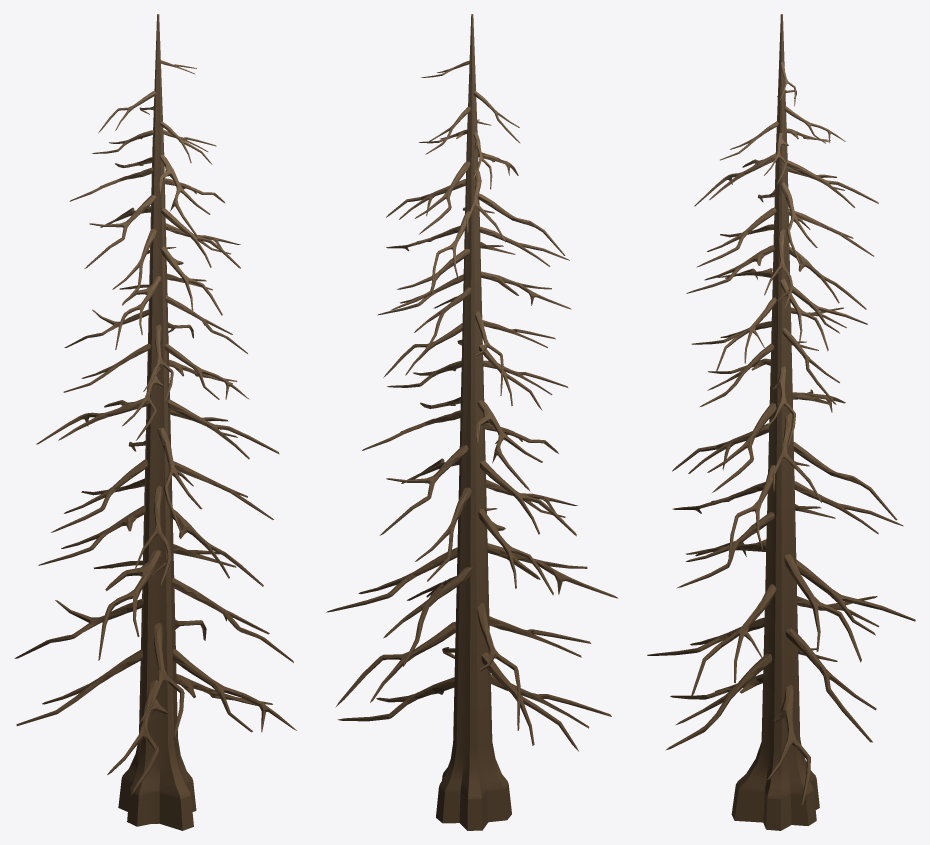
File: Tree_07.fbx
The picture shows the model from 3 angles, left to right: view 1: azimuth 30°, elevation 25°; view 2: azimuth 150°, elevation 25°; view 3: azimuth 270°, elevation 25°; orthographic projection.
Visible parts, largest first — view 1: Tree_07_LOD0; view 2: Tree_07_LOD0; view 3: Tree_07_LOD0.
Part boxes in pixels (<box>): Tree_07_LOD0: <box>14,14,296,830</box>; Tree_07_LOD0: <box>326,14,618,830</box>; Tree_07_LOD0: <box>647,14,915,830</box>.
Size of what is drawn, in the model's own units: 2.66 by 8.14 by 2.47.
